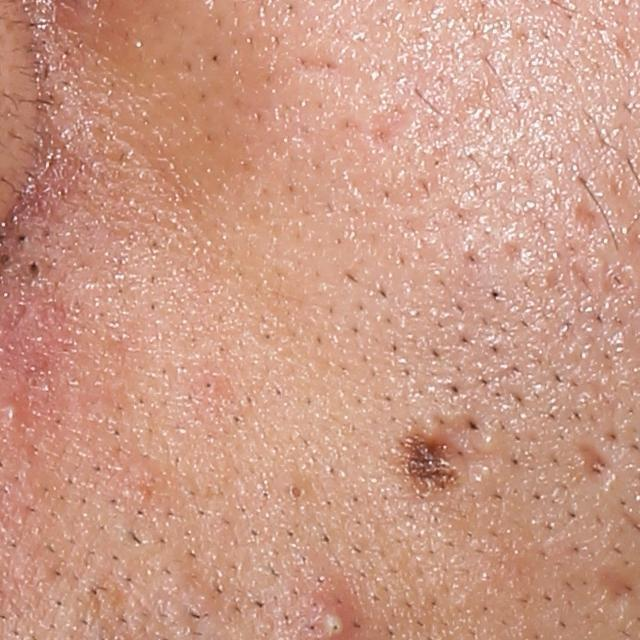atrophic_scar: (363, 103, 416, 150), (576, 445, 618, 491), (289, 52, 344, 79), (574, 199, 611, 233)
comedo: (17, 255, 50, 281)
nevus: (383, 425, 471, 504)
